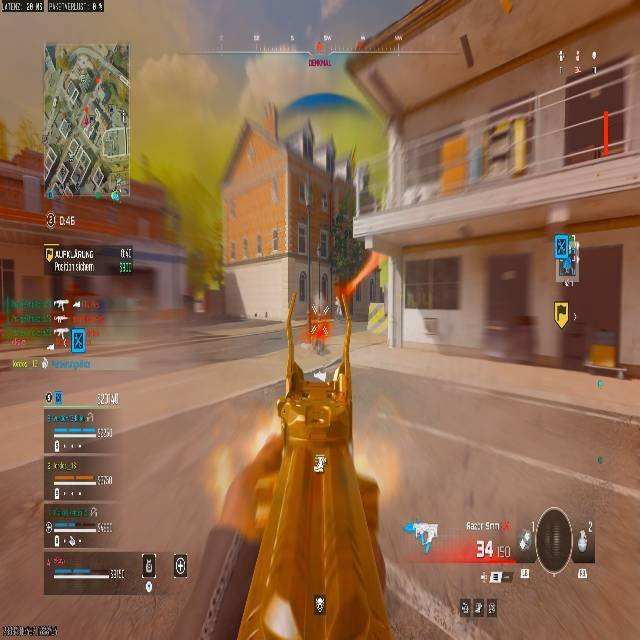player: (310, 321, 328, 355)
